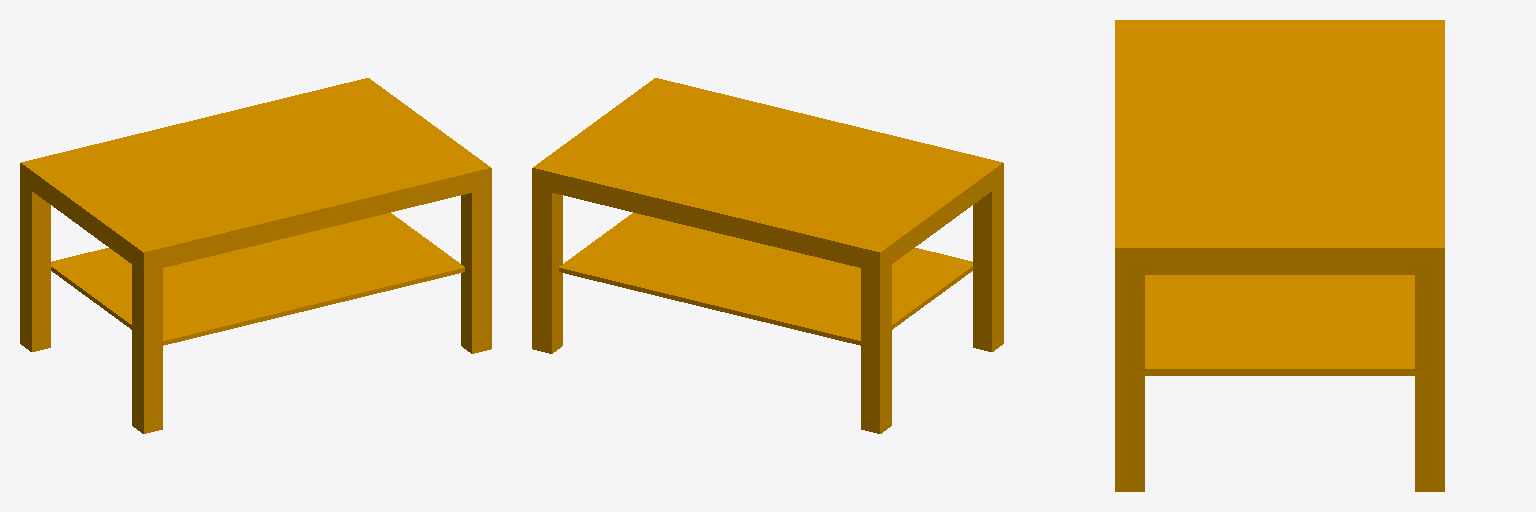
URDF robot description (coffee_table_02):
<?xml version="1.0" ?>
<robot name="coffee_table_02">
  <link name="baseLink">
    <contact>
      <lateral_friction value="1.0"/>
      <inertia_scaling value="3.0"/>
    </contact>
    <inertial>
      <origin rpy="0 0 0" xyz="0.000 -0.000 -0.250"/>
       <mass value=".1"/>
       <inertia ixx="1" ixy="0.0" ixz="0.0" iyy="1" iyz="0.0" izz="1"/>
    </inertial>
    <visual>
      <origin rpy="0 0 0" xyz="0 0 0"/>
      <geometry>
        <mesh filename="visual.obj" scale="1.000 1.000 1.000"/>
      </geometry>
      <material name="texture_material">
            <texture filename="texture.png"/>
       </material>
    </visual>
    <collision>
      <origin rpy="0 0 0" xyz="0 0 0"/>
      <geometry>
        <mesh filename="visual.obj" scale="1.000 1.000 1.000"/>
      </geometry>
    </collision>
  </link>
</robot>
        

--- Render facts (derived) ---
3 views of the same robot in one strip: view 1: azimuth 30°, elevation 25°; view 2: azimuth 150°, elevation 25°; view 3: azimuth 270°, elevation 25° (orthographic).
Model coffee_table_02 with 1 links and 0 joints (none), rooted at baseLink, posed all joints at 0.
Visible links, largest first — view 1: baseLink; view 2: baseLink; view 3: baseLink.
Boxes of the visible links, <box> form: baseLink: <box>20,78,491,433</box>; baseLink: <box>532,78,1003,433</box>; baseLink: <box>1115,20,1444,491</box>.
Size in the robot's own frame: 1 by 0.6127 by 0.4991 metres.
Meshes: 1 distinct files referenced, 1 mesh visuals loaded (1 OBJ).
